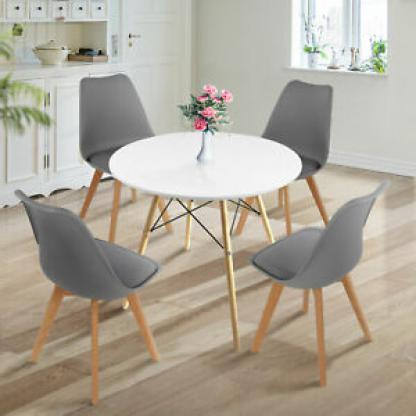chair: (2, 182, 167, 408), (250, 184, 394, 385), (38, 73, 170, 242), (219, 73, 342, 238)
table: (109, 132, 302, 355)
